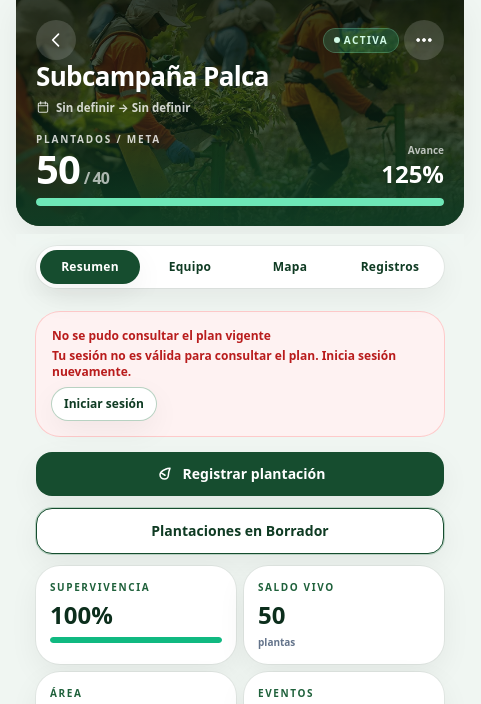
revisión del plan desde el detalle de subcampaña › conserva el bloqueo y permite reintentar si el inicio de sesión falla
This screenshot has width=481, height=704.
Click the button "Iniciar sesión" at point(104, 404), box x1=52 y1=388 x2=156 y2=420
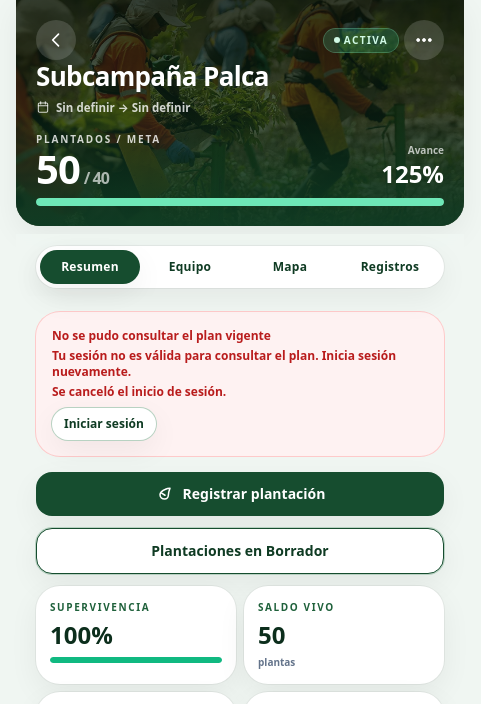
Expected: the text "Se canceló el inicio de sesión." is shown, x1=52 y1=383 x2=226 y2=400
Click the button "Iniciar sesión" at point(104, 424), box x1=52 y1=408 x2=156 y2=440
(page scrolled)
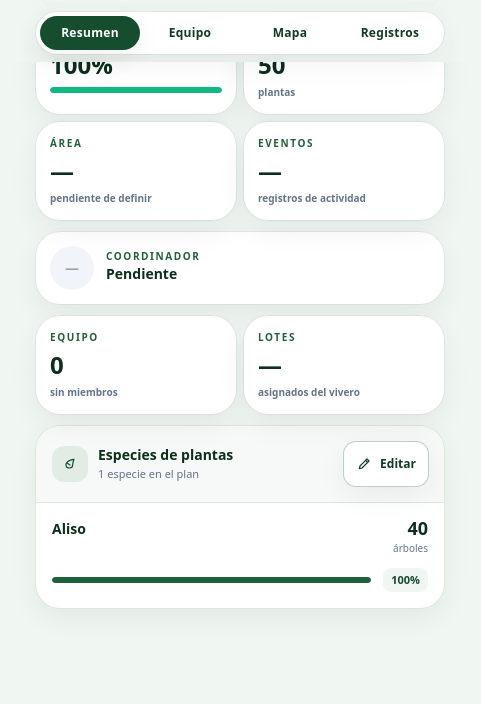
Expected: the heading "Especies de plantas" is shown, x1=98 y1=445 x2=233 y2=464
